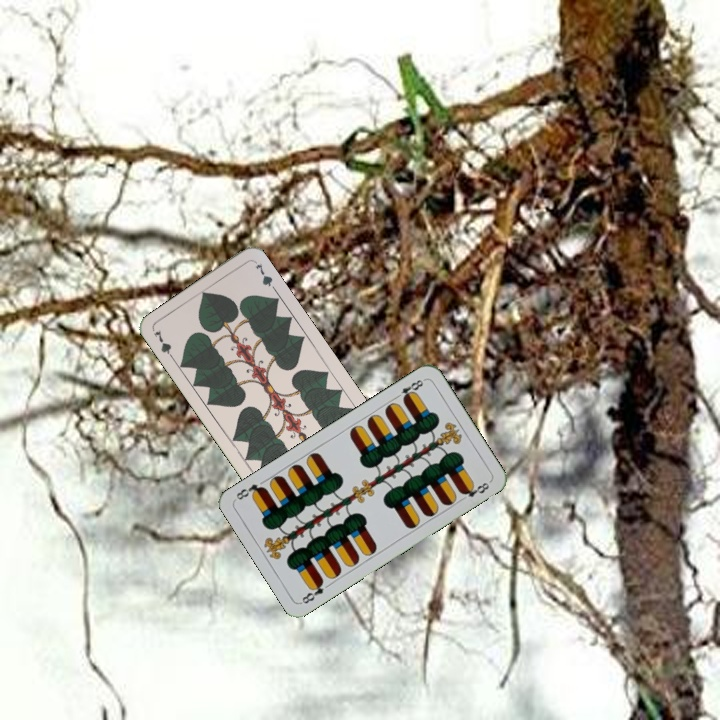E8: (391, 375, 427, 404), (298, 576, 327, 606)
G7: (150, 326, 178, 363)
